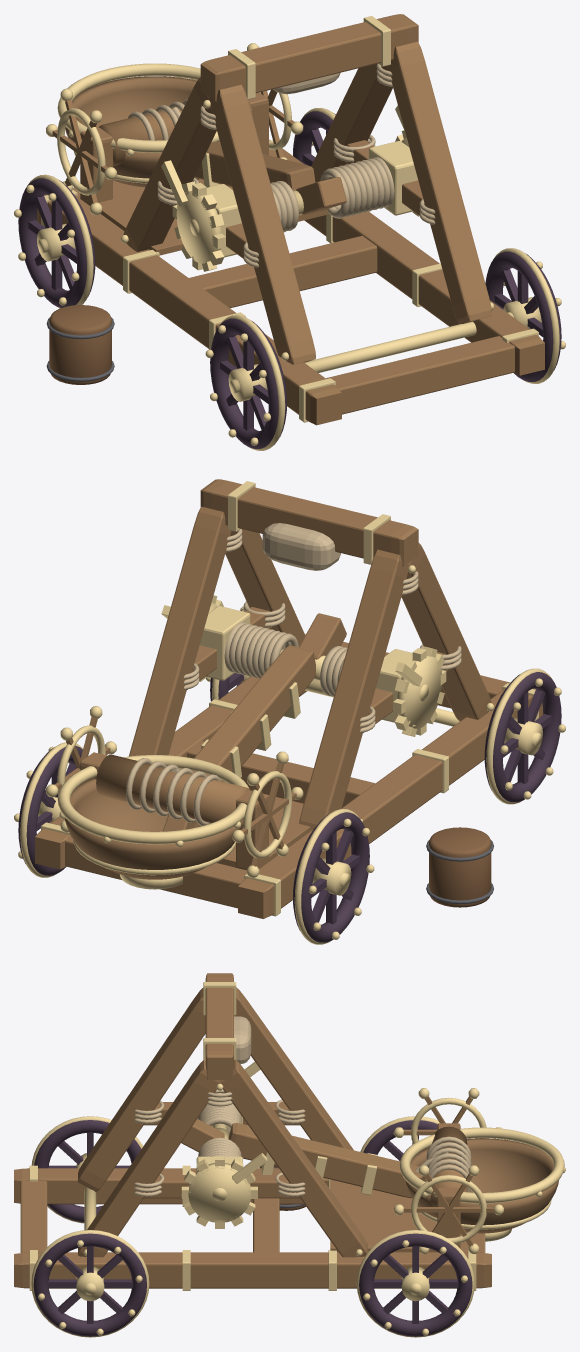
Rendered from dm_catapultwooden.glb.
The picture shows the model from 3 angles, top to bottom: view 1: azimuth 30°, elevation 25°; view 2: azimuth 150°, elevation 25°; view 3: azimuth 270°, elevation 25°; orthographic projection. The views are drawn at different scales.
Visible parts, largest first — view 1: Base_WoodPlanks_FrameFront.001, Base_WoodPlanks_FrameFront, Base_WoodPlanks_Rail, Base_WoodPlanks_StopBar, Base_WoodPlanks_Rail.001, Base_WoodPlanks_CrossBeam, Base_WoodPlanks_FrameBack, Base_WoodPlanks_CrossBeam.001, Arm_WoodPlanks_Bucket, Base_Wood_Barrel, Base_Wood_WheelRim, Base_Wood_WheelRim.001 (+26 smaller); view 2: Base_WoodPlanks_FrameBack, Base_WoodPlanks_Rail, Base_WoodPlanks_FrameBack.001, Base_WoodPlanks_StopBar, Arm_WoodPlanks_Bucket, Arm_WoodPlanks_ArmBeam, Base_WoodPlanks_FrameFront, Base_WoodPlanks_WinchDrum, Arm_Metal_BucketRim, Base_Wood_Barrel, Base_Wood_WheelRim, Base_Wood_WheelRim.001 (+25 smaller); view 3: Base_WoodPlanks_Rail.001, Base_WoodPlanks_FrameBack.001, Base_WoodPlanks_FrameFront, Arm_WoodPlanks_Bucket, Base_WoodPlanks_FrameFront.001, Base_WoodPlanks_FrameBack, Base_Wood_WheelRim.003, Base_Wood_WheelRim.002, Arm_WoodPlanks_ArmBeam, Arm_Metal_BucketRim, Base_WoodPlanks_Rail, Base_WoodPlanks_StopBar (+23 smaller).
Boxes of the visible parts, x1=… form: Base_WoodPlanks_FrameFront.001: x1=387, y1=41, x2=492, y2=324; Base_WoodPlanks_FrameFront: x1=209, y1=84, x2=315, y2=364; Base_WoodPlanks_Rail: x1=36, y1=194, x2=341, y2=425; Base_WoodPlanks_StopBar: x1=200, y1=14, x2=418, y2=101; Base_WoodPlanks_Rail.001: x1=269, y1=139, x2=544, y2=375; Base_WoodPlanks_CrossBeam: x1=326, y1=336, x2=514, y2=414; Base_WoodPlanks_FrameBack: x1=123, y1=77, x2=216, y2=251; Base_WoodPlanks_CrossBeam.001: x1=189, y1=235, x2=377, y2=308; Arm_WoodPlanks_Bucket: x1=65, y1=76, x2=220, y2=187; Base_Wood_Barrel: x1=49, y1=305, x2=111, y2=384; Base_Wood_WheelRim: x1=210, y1=318, x2=286, y2=448; Base_Wood_WheelRim.001: x1=18, y1=178, x2=95, y2=307; Base_WoodPlanks_FrameBack: x1=299, y1=549, x2=409, y2=830; Base_WoodPlanks_Rail: x1=238, y1=688, x2=543, y2=918; Base_WoodPlanks_FrameBack.001: x1=128, y1=506, x2=231, y2=756; Base_WoodPlanks_StopBar: x1=200, y1=479, x2=418, y2=566; Arm_WoodPlanks_Bucket: x1=64, y1=778, x2=243, y2=879; Arm_WoodPlanks_ArmBeam: x1=192, y1=645, x2=316, y2=775; Base_WoodPlanks_FrameFront: x1=401, y1=543, x2=491, y2=721; Base_WoodPlanks_WinchDrum: x1=96, y1=754, x2=250, y2=823; Arm_Metal_BucketRim: x1=57, y1=755, x2=248, y2=844; Base_Wood_Barrel: x1=429, y1=827, x2=491, y2=907; Base_Wood_WheelRim: x1=484, y1=672, x2=561, y2=802; Base_Wood_WheelRim.001: x1=293, y1=812, x2=369, y2=942; Base_WoodPlanks_Rail.001: x1=14, y1=1252, x2=491, y2=1288; Base_WoodPlanks_FrameBack.001: x1=220, y1=1059, x2=368, y2=1257; Base_WoodPlanks_FrameFront: x1=78, y1=988, x2=205, y2=1192; Arm_WoodPlanks_Bucket: x1=406, y1=1138, x2=558, y2=1233; Base_WoodPlanks_FrameFront.001: x1=78, y1=1060, x2=219, y2=1257; Base_WoodPlanks_FrameBack: x1=234, y1=987, x2=353, y2=1150; Base_Wood_WheelRim.003: x1=359, y1=1233, x2=472, y2=1336; Base_Wood_WheelRim.002: x1=33, y1=1233, x2=146, y2=1336; Arm_WoodPlanks_ArmBeam: x1=228, y1=1123, x2=421, y2=1198; Arm_Metal_BucketRim: x1=399, y1=1127, x2=564, y2=1203; Base_WoodPlanks_Rail: x1=14, y1=1168, x2=328, y2=1204; Base_WoodPlanks_StopBar: x1=205, y1=973, x2=233, y2=1079.
Size of the model in its own units: 10.97 by 8.93 by 16.62.
